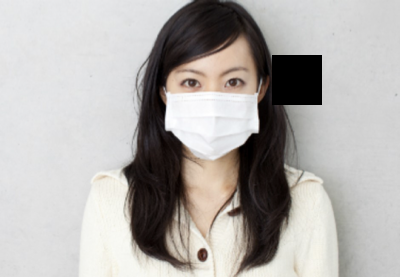with_mask: (166, 67, 260, 160)
